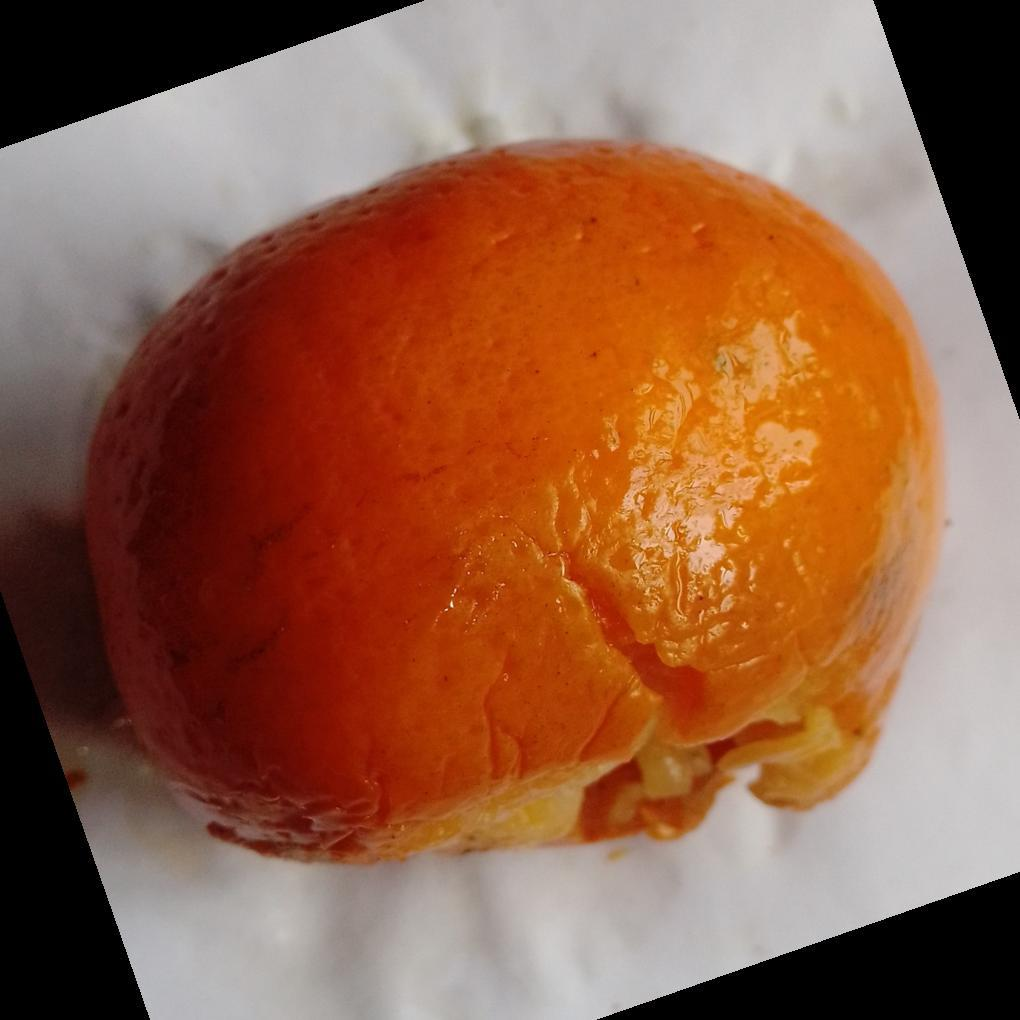FreshOrange: (80, 138, 949, 870)
